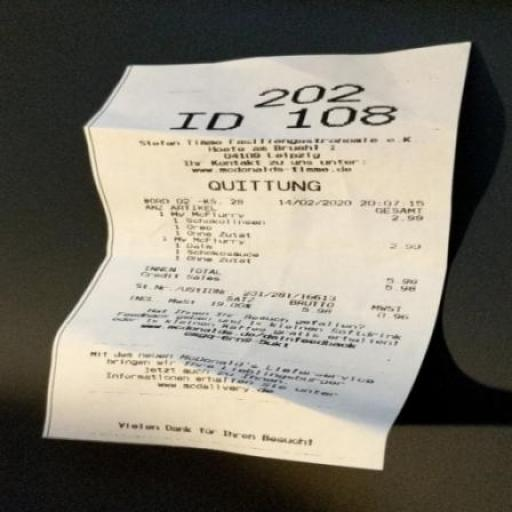paper: (24, 24, 498, 502)
